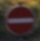No entry: (5, 6, 35, 36)
